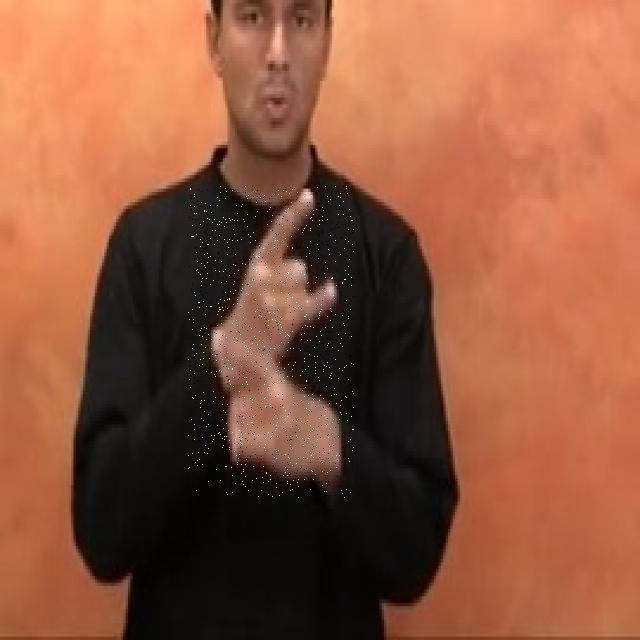alcohol: (188, 186, 354, 498)
